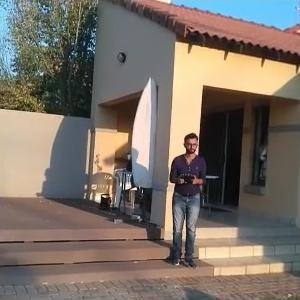follow: (163, 129, 210, 272)
